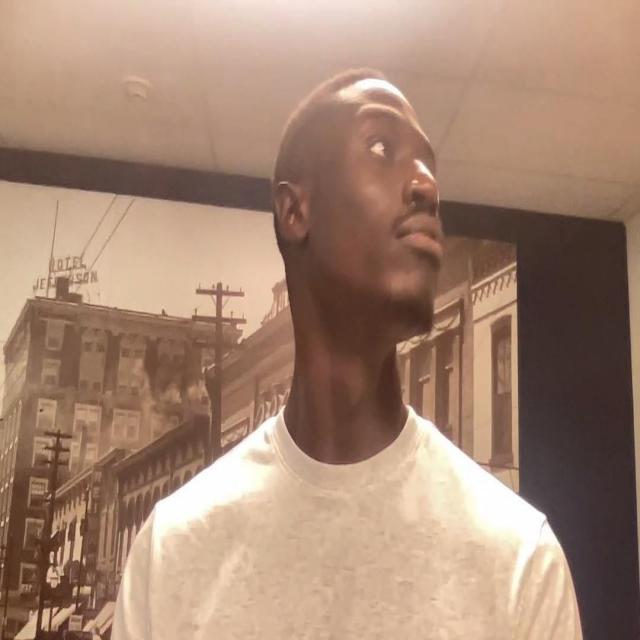face: (271, 75, 443, 337)
